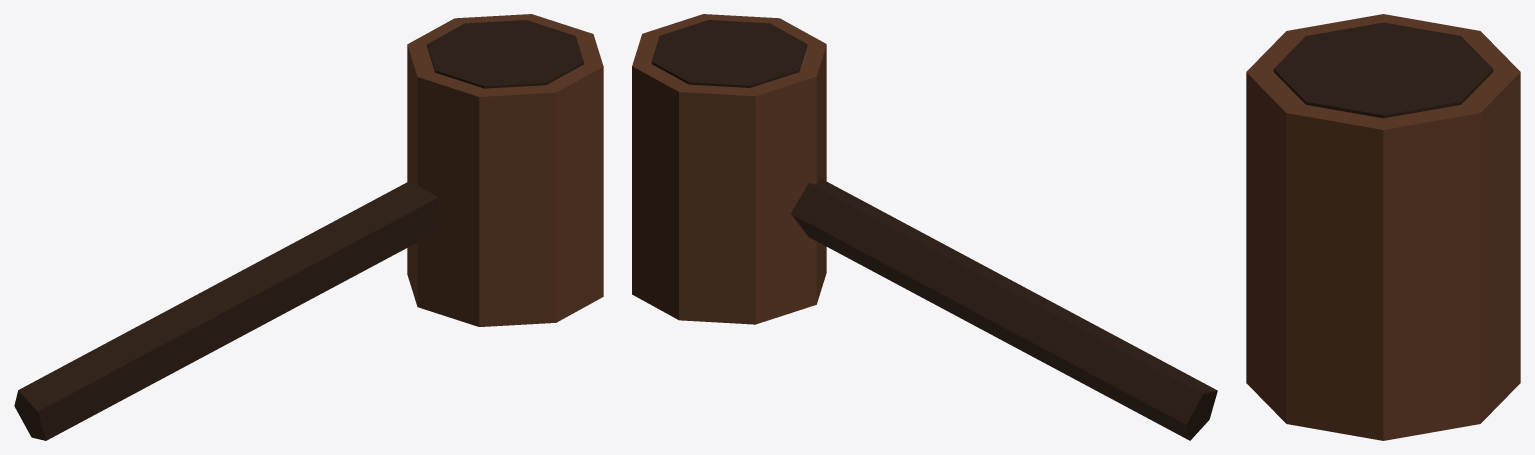
Rendered from pipe.fbx.
3 renders of one model, left to right at view 1: azimuth 30°, elevation 25°; view 2: azimuth 150°, elevation 25°; view 3: azimuth 270°, elevation 25°, orthographic. The views are drawn at different scales.
Parts seen in each view (by area): view 1: pipe; view 2: pipe; view 3: pipe.
Boxes of the visible parts, <box> form: pipe: <box>14,14,603,440</box>; pipe: <box>632,14,1217,440</box>; pipe: <box>1246,14,1520,440</box>.
Bounding box in the file's own units: 0.5188 × 0.2375 × 0.16.
